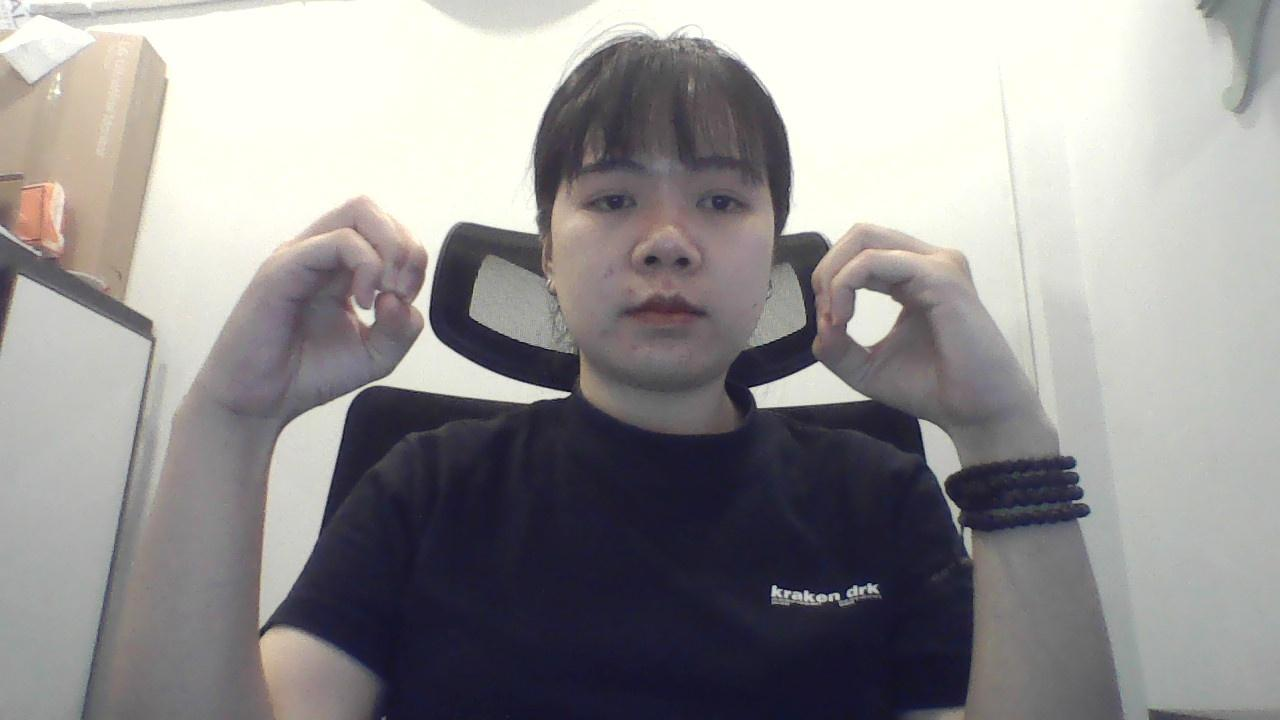O: (204, 166, 445, 440), (800, 194, 1042, 432)
